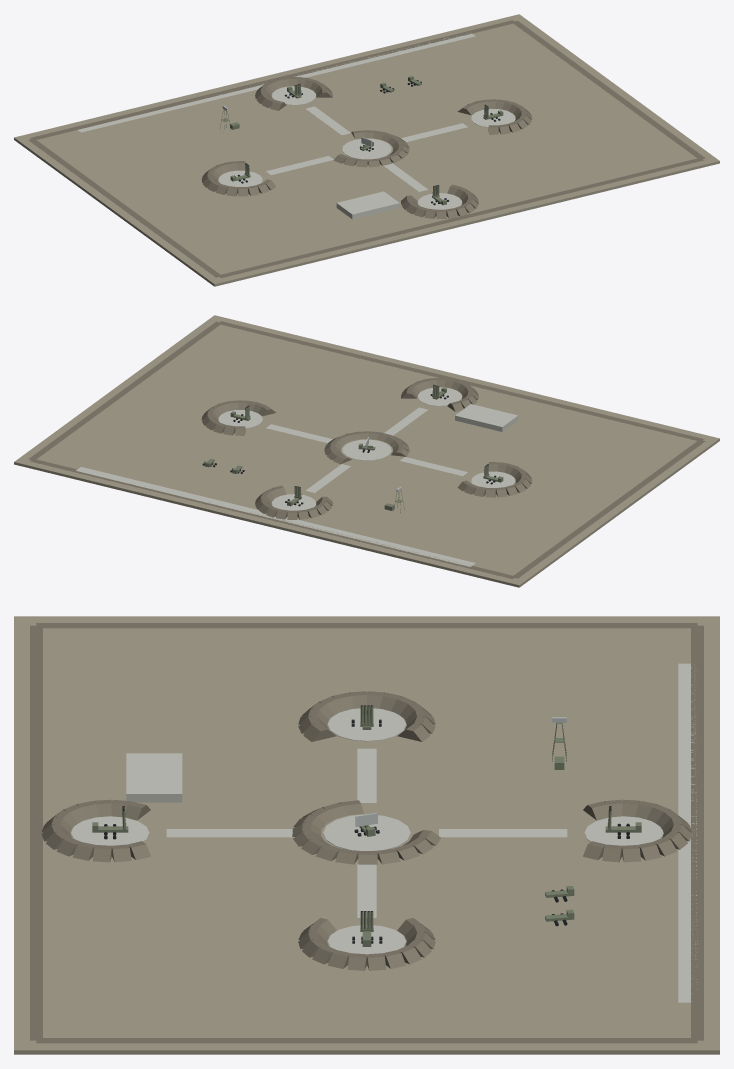
Rendered from pla_sam_hq9b_site.glb.
The picture shows the model from 3 angles, top to bottom: view 1: azimuth 30°, elevation 25°; view 2: azimuth 150°, elevation 25°; view 3: azimuth 270°, elevation 25°; orthographic projection. The views are drawn at different scales.
Visible parts, largest first — view 1: earth, earth_dark, concrete, drab; view 2: earth, earth_dark, concrete, drab; view 3: earth, earth_dark, concrete, drab.
Boxes of the visible parts, box(x1,y1,x2,y2) form: earth: box(14, 14, 719, 286); earth_dark: box(28, 20, 705, 277); concrete: box(78, 33, 515, 219); drab: box(219, 76, 503, 205); earth: box(14, 315, 719, 587); earth_dark: box(28, 321, 705, 578); concrete: box(76, 387, 518, 566); drab: box(204, 385, 503, 512); earth: box(14, 616, 719, 1054); earth_dark: box(30, 623, 703, 1043); concrete: box(71, 663, 697, 1002); drab: box(92, 706, 641, 946).
Size of the model in its own units: 10 by 0.4859 by 6.88.
